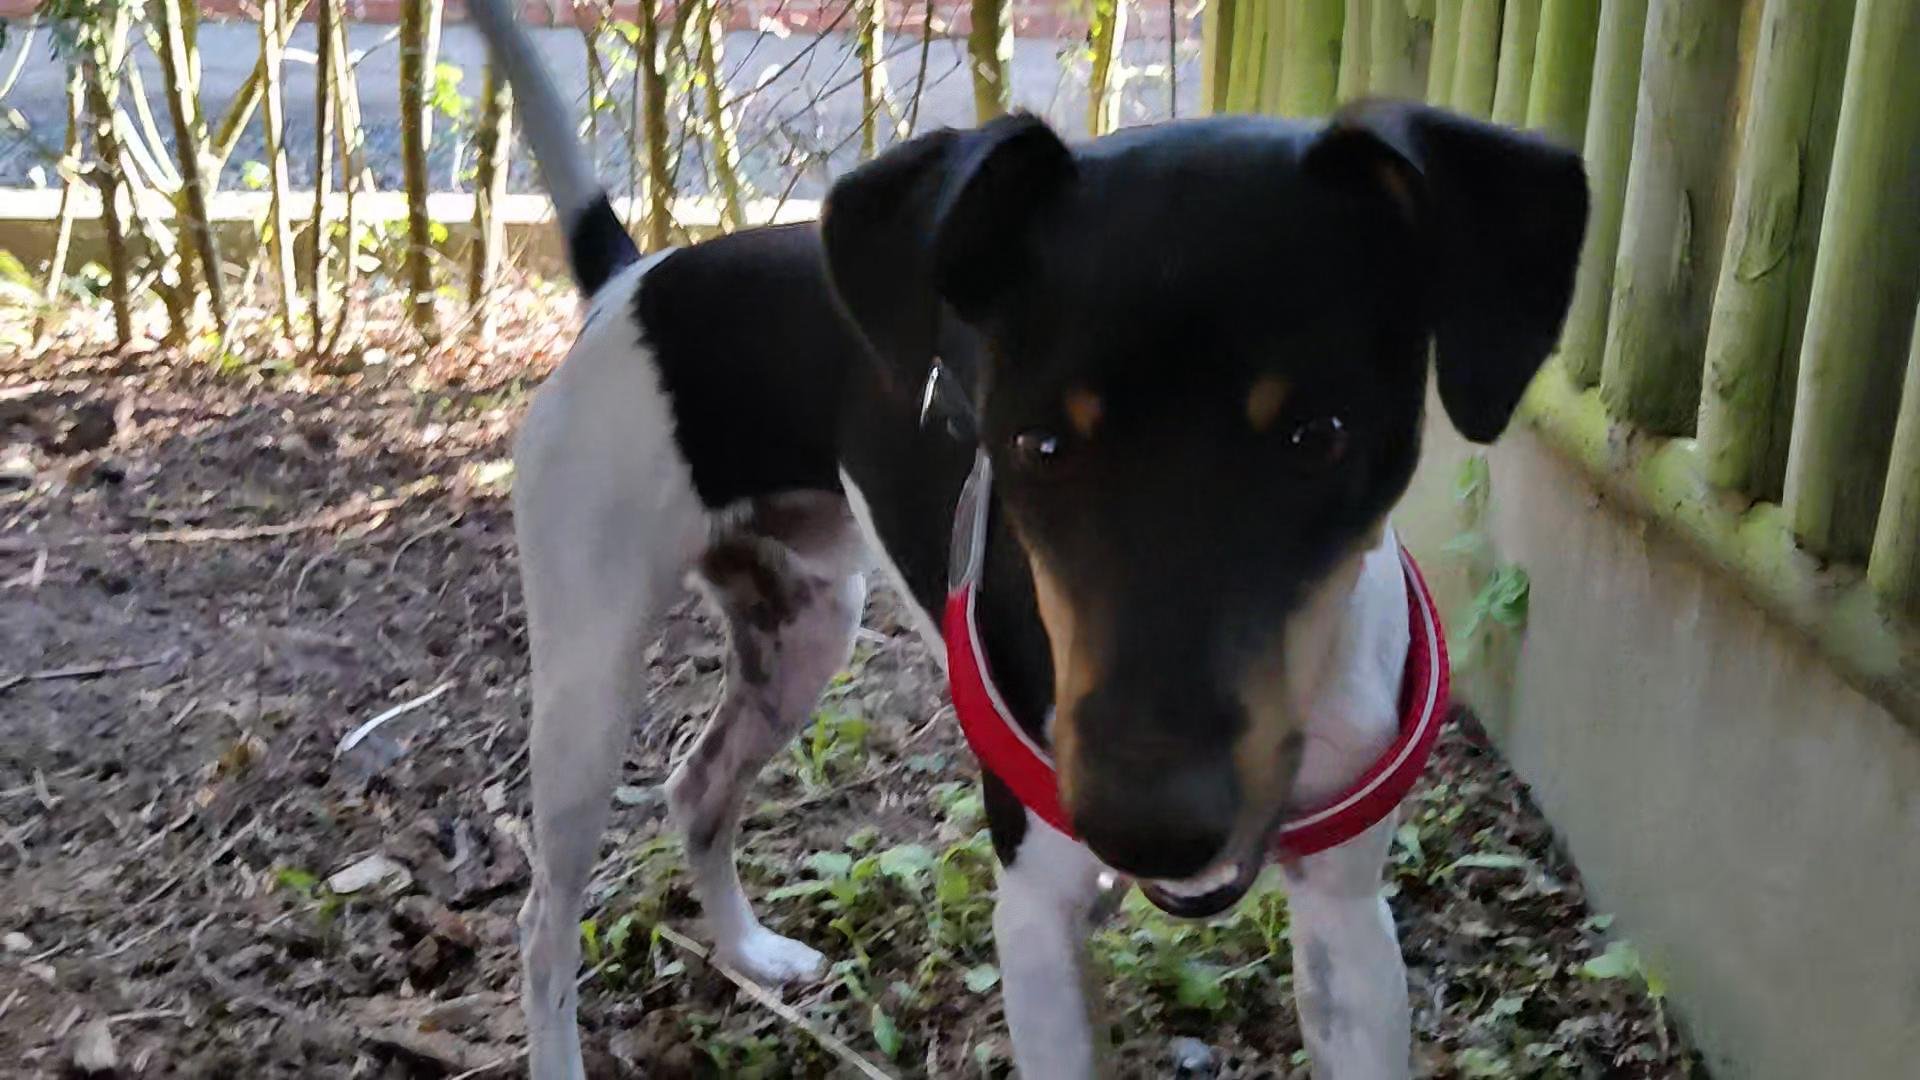Dog: (444, 0, 1596, 1079)
